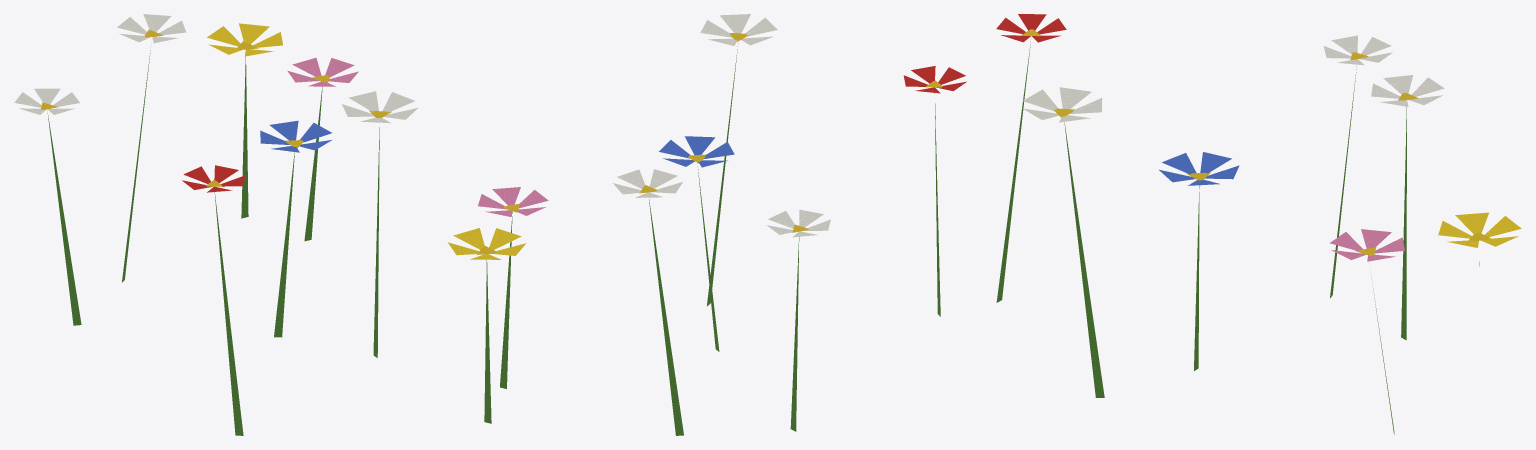
The model's file is trava_kvitky.glb.
The picture shows the model from 3 angles, left to right: view 1: azimuth 30°, elevation 25°; view 2: azimuth 150°, elevation 25°; view 3: azimuth 270°, elevation 25°; orthographic projection. The views are drawn at different scales.
Visible parts, largest first — view 1: trava_kvitky; view 2: trava_kvitky; view 3: trava_kvitky.
Boxes of the visible parts, x1=… form: trava_kvitky: x1=14, y1=14, x2=418, y2=435; trava_kvitky: x1=447, y1=14, x2=966, y2=435; trava_kvitky: x1=996, y1=14, x2=1521, y2=434.
Bounding box in the file's own units: 0.476 × 0.3536 × 0.5886.
1 material, 1 textured.
